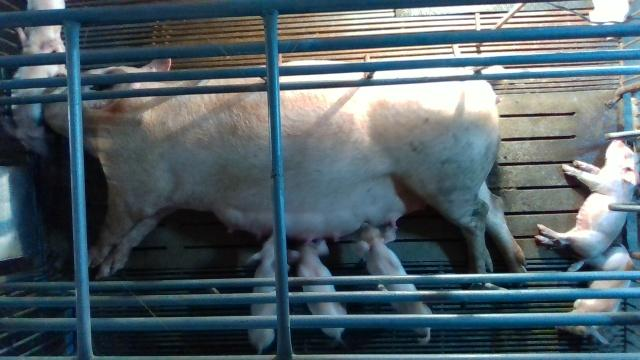piglet: (537, 140, 640, 258), (351, 222, 432, 343), (555, 243, 634, 346), (3, 64, 67, 156), (288, 240, 348, 335), (245, 234, 276, 354), (17, 0, 65, 53)
sow-sleep-lactate: (46, 56, 527, 278)
